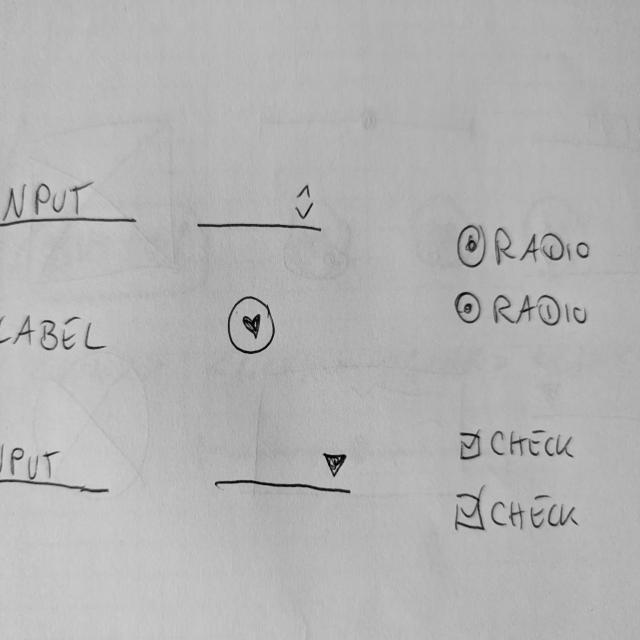checkbox: (453, 491, 583, 539), (456, 423, 582, 467)
icon-button: (227, 295, 278, 359)
input: (1, 177, 140, 234), (1, 439, 115, 499)
label: (1, 306, 111, 361)
number-input: (196, 177, 328, 241)
radio: (455, 221, 595, 274), (455, 285, 592, 332)
select: (213, 448, 356, 498)
